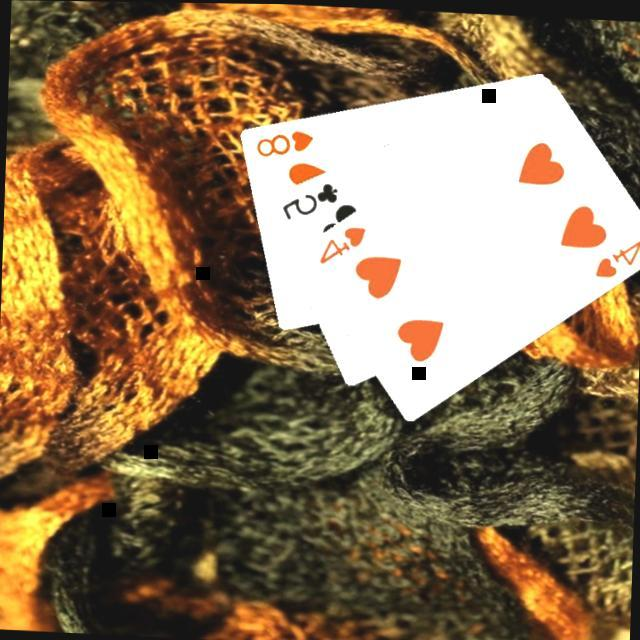4H: (587, 229, 640, 279), (313, 218, 367, 267)
5C: (276, 174, 340, 222)
8H: (251, 122, 316, 159)
